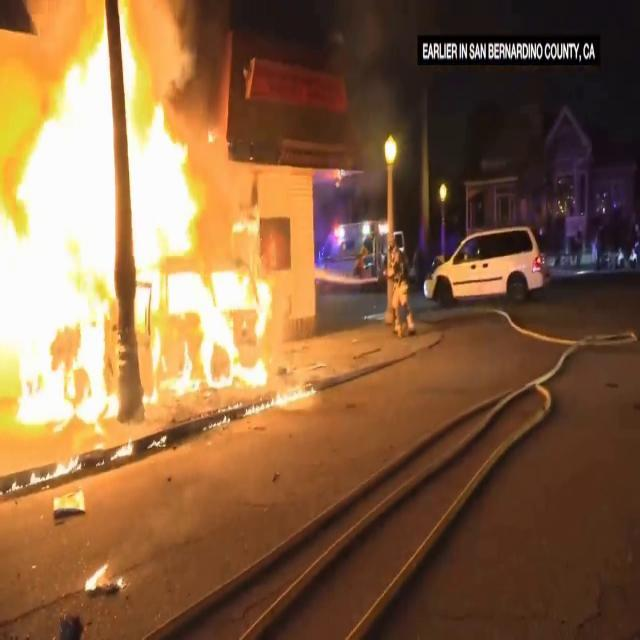Fire: (0, 1, 279, 431)
